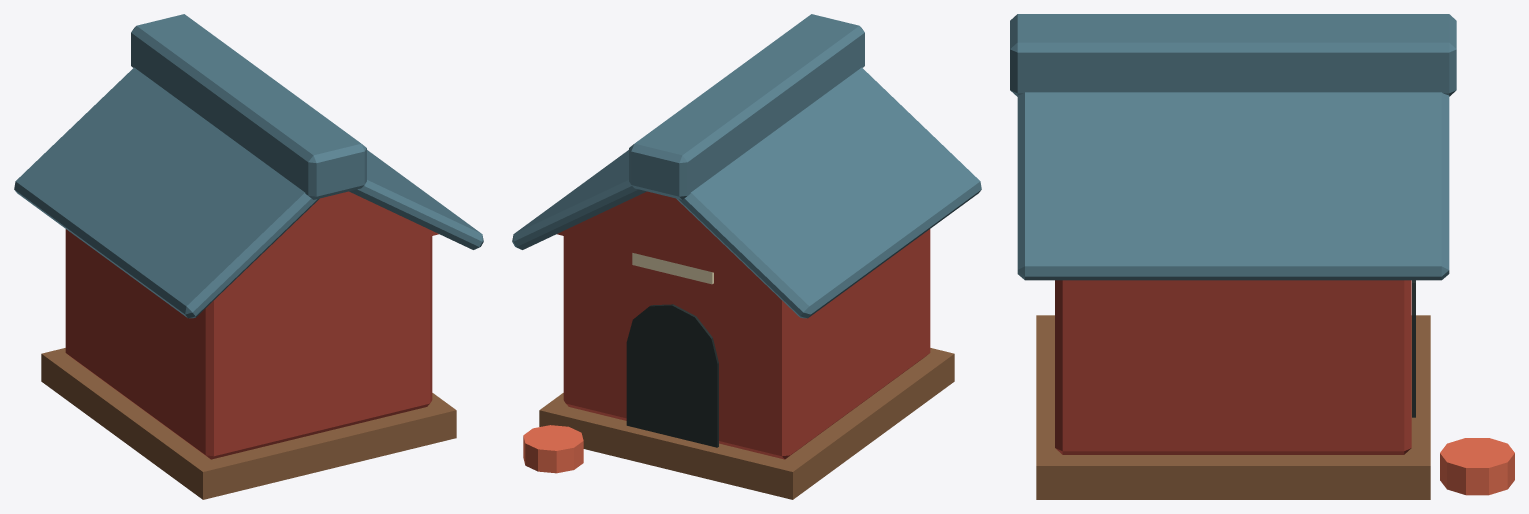
File: sm_env_yard_dog_house.glb
3 views of the same model, side by side, from view 1: azimuth 30°, elevation 25°; view 2: azimuth 150°, elevation 25°; view 3: azimuth 270°, elevation 25° (orthographic). The views are drawn at different scales.
Visible parts, largest first — view 1: DogHouseWalls, DogHouseRoof, DogHouseRoofRidge, DogHouseFloor, DogHouseRoofGable.001, DogHouseRoof.001; view 2: DogHouseWalls, DogHouseRoof, DogHouseRoofRidge, DogHouseFloor, DogHouseDoor, DogHouseRoofGable, DogHouseRoof.001, Bowl, NamePlate; view 3: DogHouseRoof.001, DogHouseWalls, DogHouseRoofRidge, DogHouseFloor, Bowl, DogHouseDoor.
Part boxes in pixels (<box>): DogHouseWalls: <box>65,229,432,459</box>; DogHouseRoof: <box>14,67,319,318</box>; DogHouseRoofRidge: <box>131,14,366,199</box>; DogHouseFloor: <box>41,348,456,499</box>; DogHouseRoofGable.001: <box>230,191,438,285</box>; DogHouseRoof.001: <box>349,150,483,249</box>; DogHouseWalls: <box>563,229,930,459</box>; DogHouseRoof: <box>676,67,981,318</box>; DogHouseRoofRidge: <box>629,14,864,199</box>; DogHouseFloor: <box>539,348,954,499</box>; DogHouseDoor: <box>626,304,718,447</box>; DogHouseRoofGable: <box>557,191,765,285</box>; DogHouseRoof.001: <box>512,150,646,249</box>; Bowl: <box>523,425,583,473</box>; NamePlate: <box>632,253,713,284</box>; DogHouseRoof.001: <box>1017,92,1449,280</box>; DogHouseWalls: <box>1055,280,1411,454</box>; DogHouseRoofRidge: <box>1010,14,1456,96</box>; DogHouseFloor: <box>1036,315,1430,499</box>; Bowl: <box>1440,438,1514,495</box>; DogHouseDoor: <box>1412,280,1415,417</box>.
Size of the model in its own units: 1.12 by 1.16 by 1.35.
